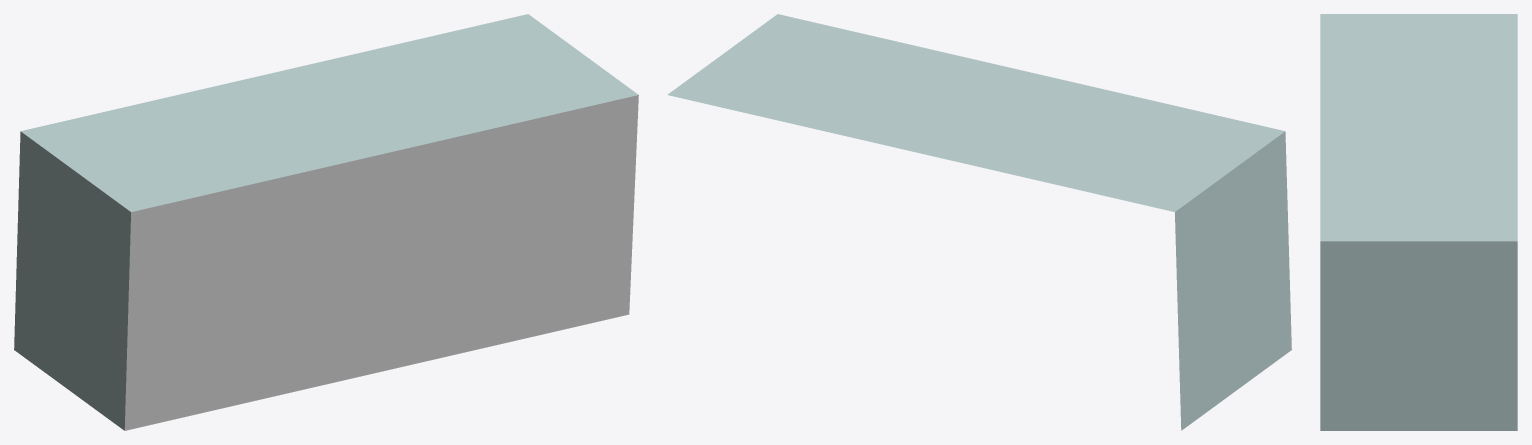
3 renders of one model, left to right at view 1: azimuth 30°, elevation 25°; view 2: azimuth 150°, elevation 25°; view 3: azimuth 270°, elevation 25°, orthographic. The views are drawn at different scales.
Parts seen in each view (by area): view 1: 0_0_2_0_2_3_1_0_0; view 2: 0_0_2_0_2_3_1_0_0; view 3: 0_0_2_0_2_3_1_0_0.
Boxes of the visible parts, x1=… form: 0_0_2_0_2_3_1_0_0: x1=14, y1=14, x2=638, y2=430; 0_0_2_0_2_3_1_0_0: x1=667, y1=14, x2=1291, y2=430; 0_0_2_0_2_3_1_0_0: x1=1320, y1=14, x2=1517, y2=430.
Bounding box in the file's own units: 8.05 × 3.35 × 3.
